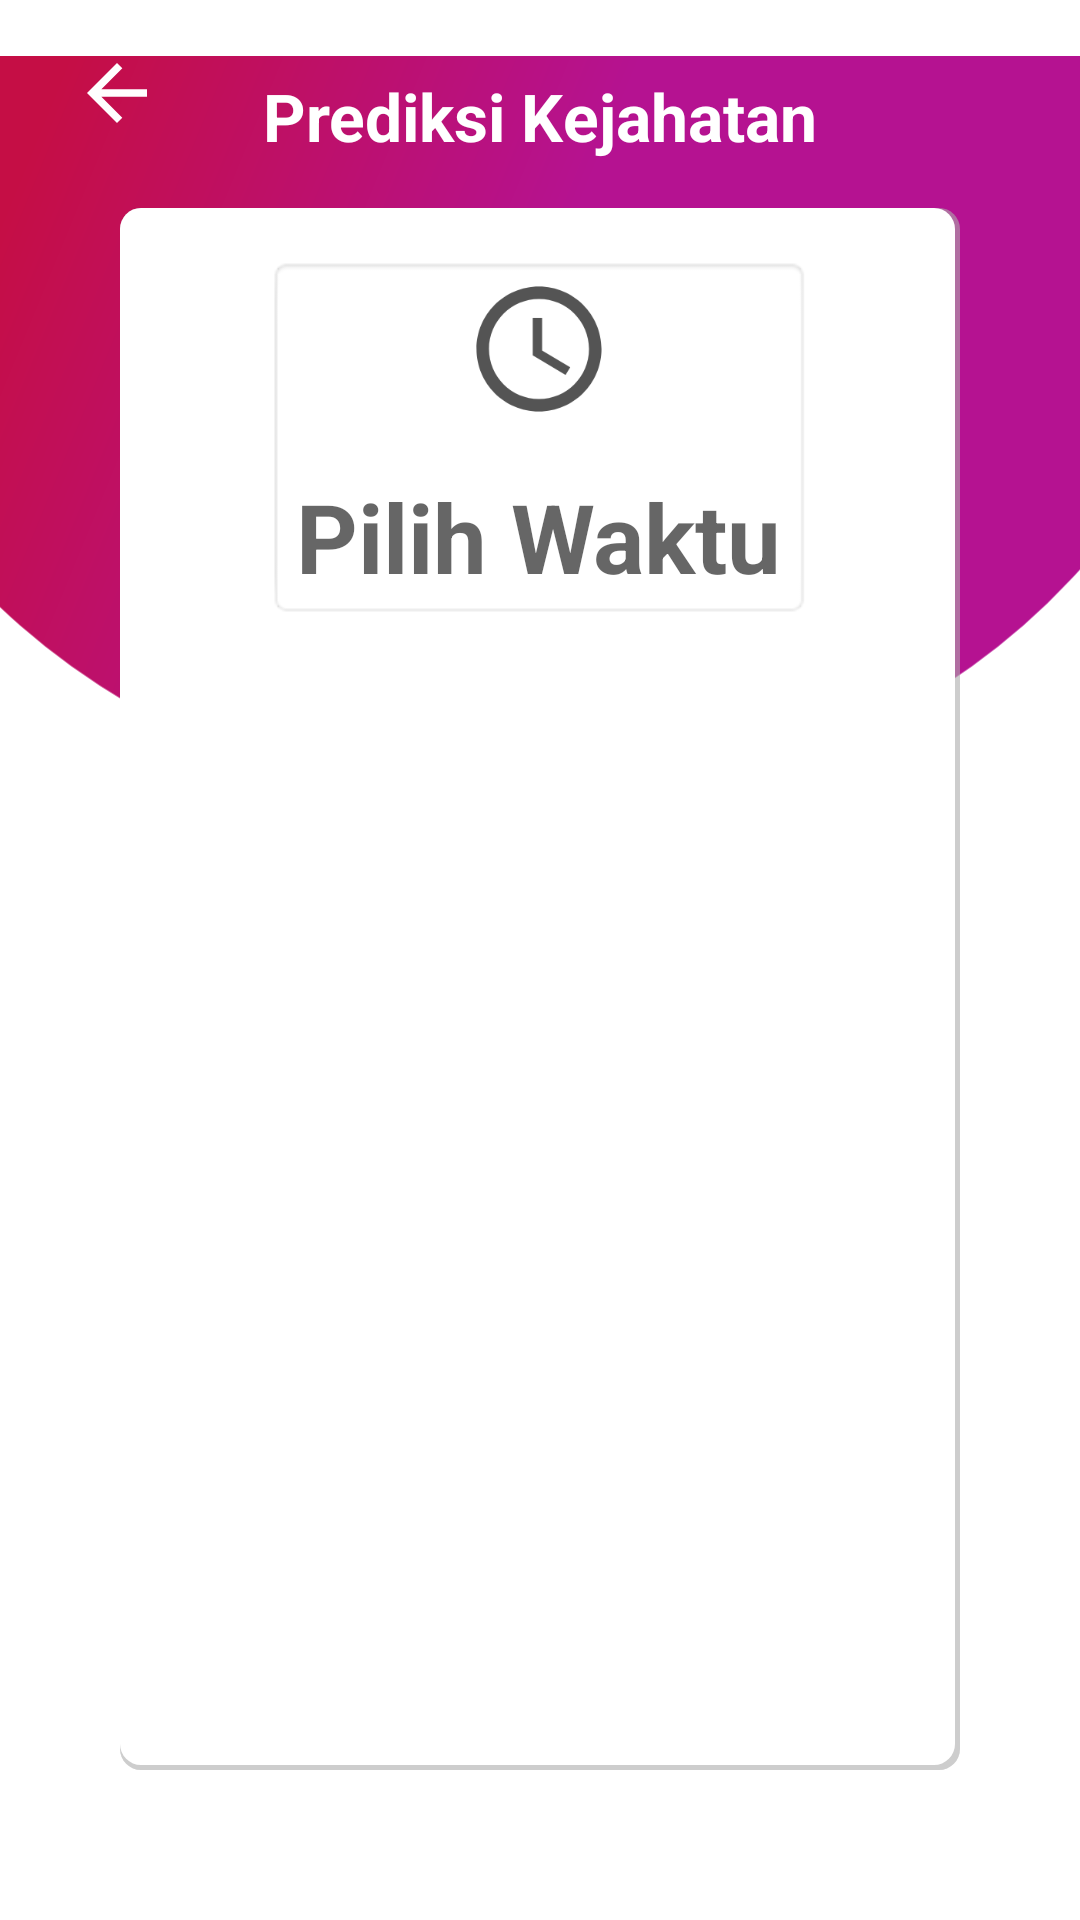

Locate icon controls on the screen. Image size 1080 x 1920, boxes as [x1=x1, y1=y1, x2=x2, y2=y2].
Kembali: [x1=87, y1=63, x2=147, y2=123]
